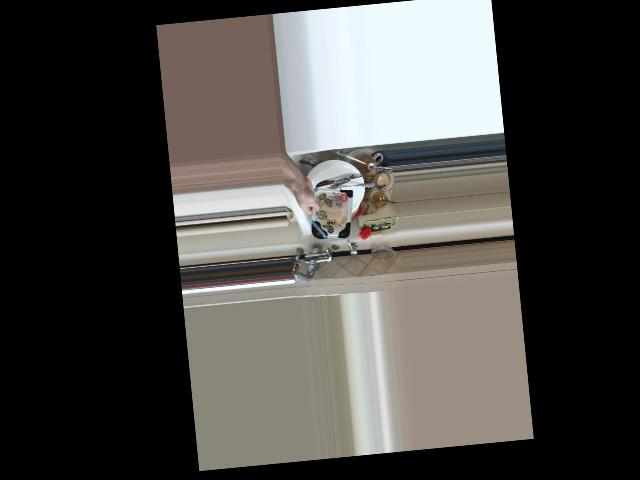cheese: (293, 176, 356, 246)
